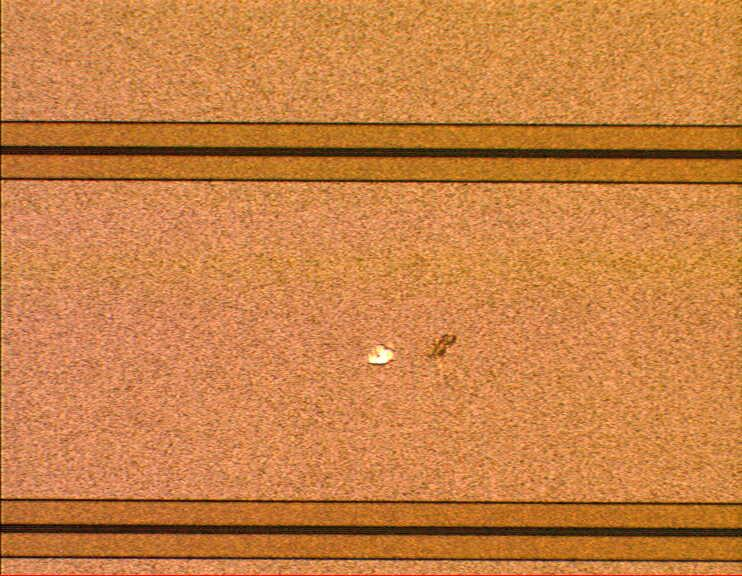SCRATCH: (360, 330, 462, 372)
